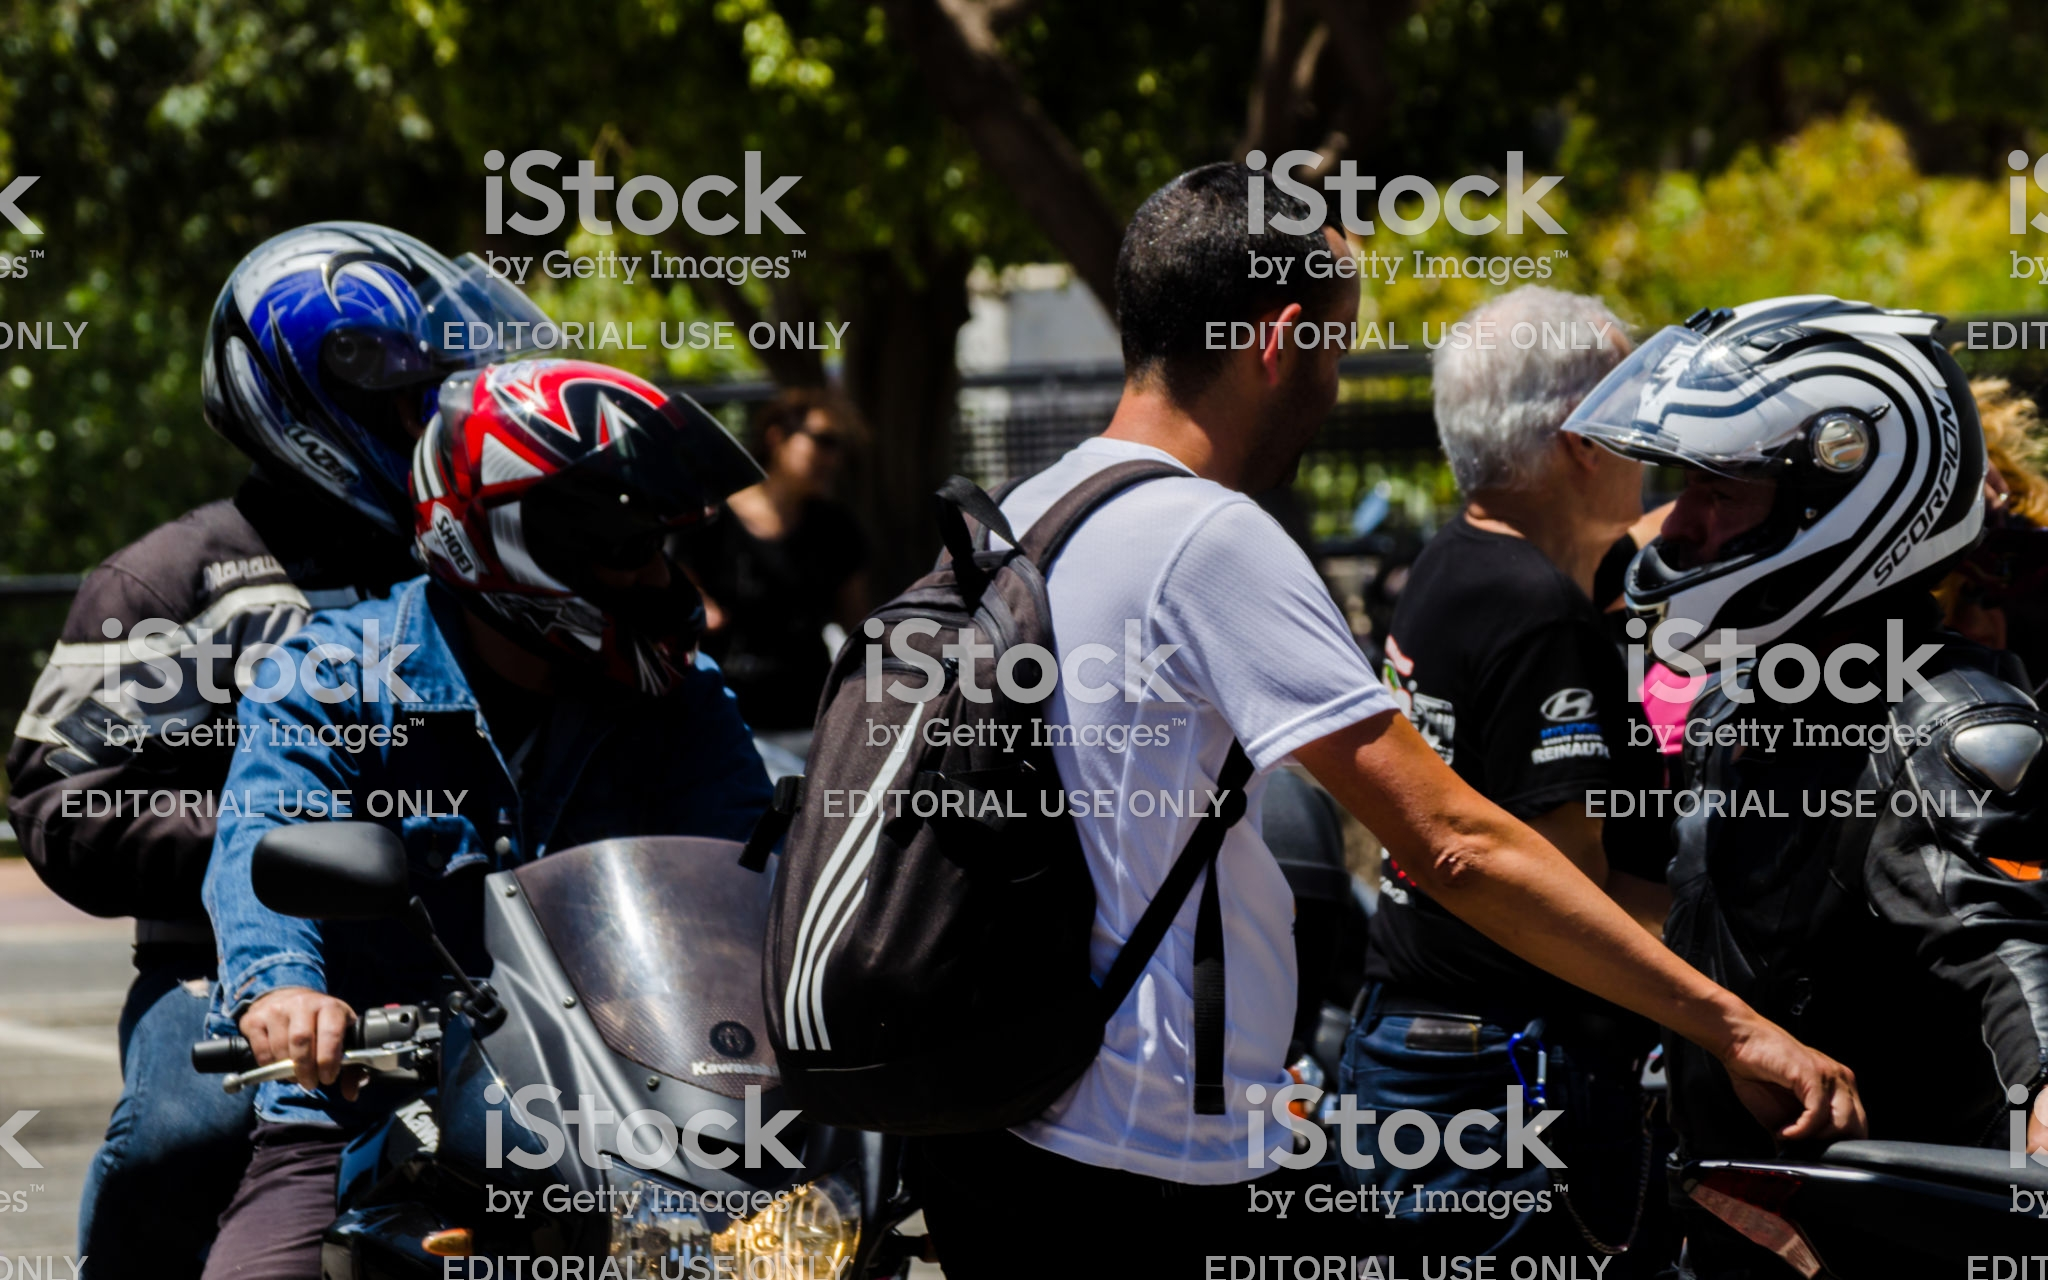helmet: (1606, 288, 1990, 650), (428, 302, 752, 672), (175, 202, 515, 518)
